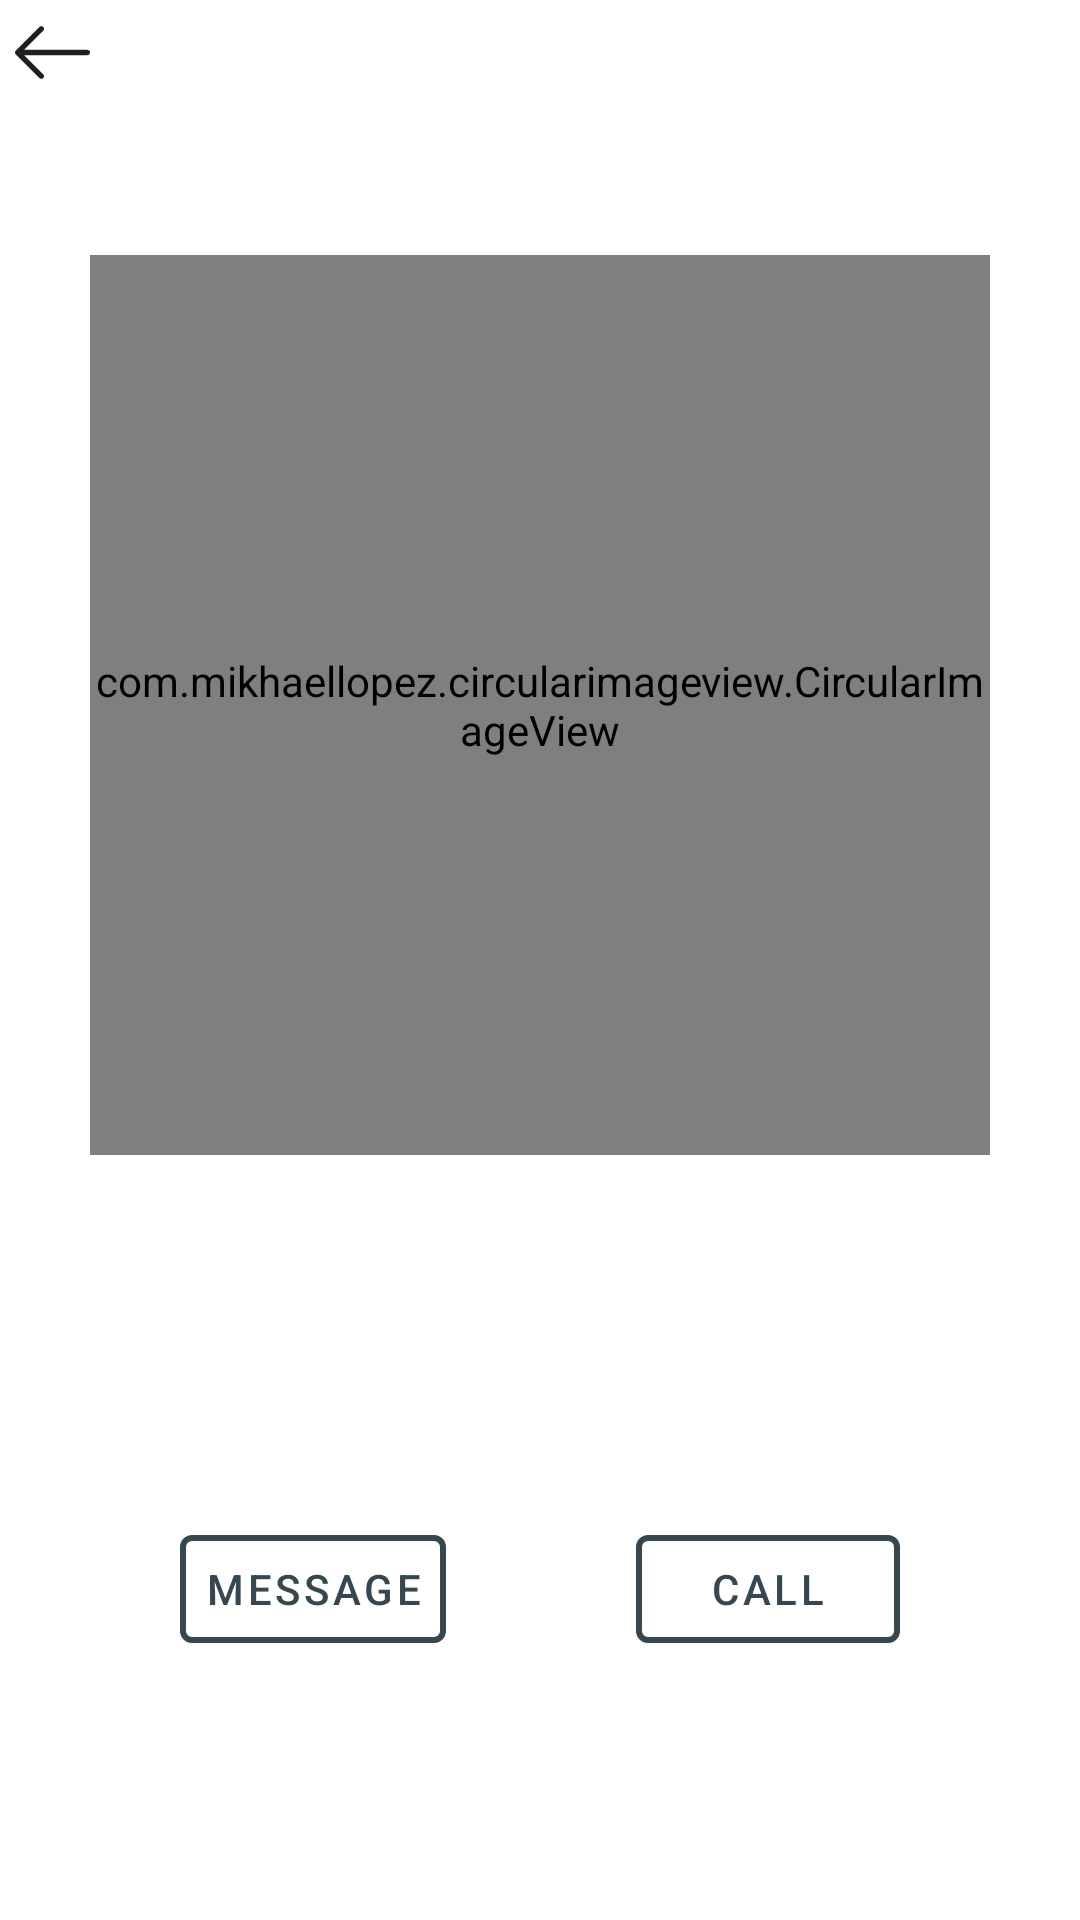

Icons on this 1080w x 1920h Android screen, each with its box as [x1, y1, x2, y2]:
back: [15, 26, 90, 79]
